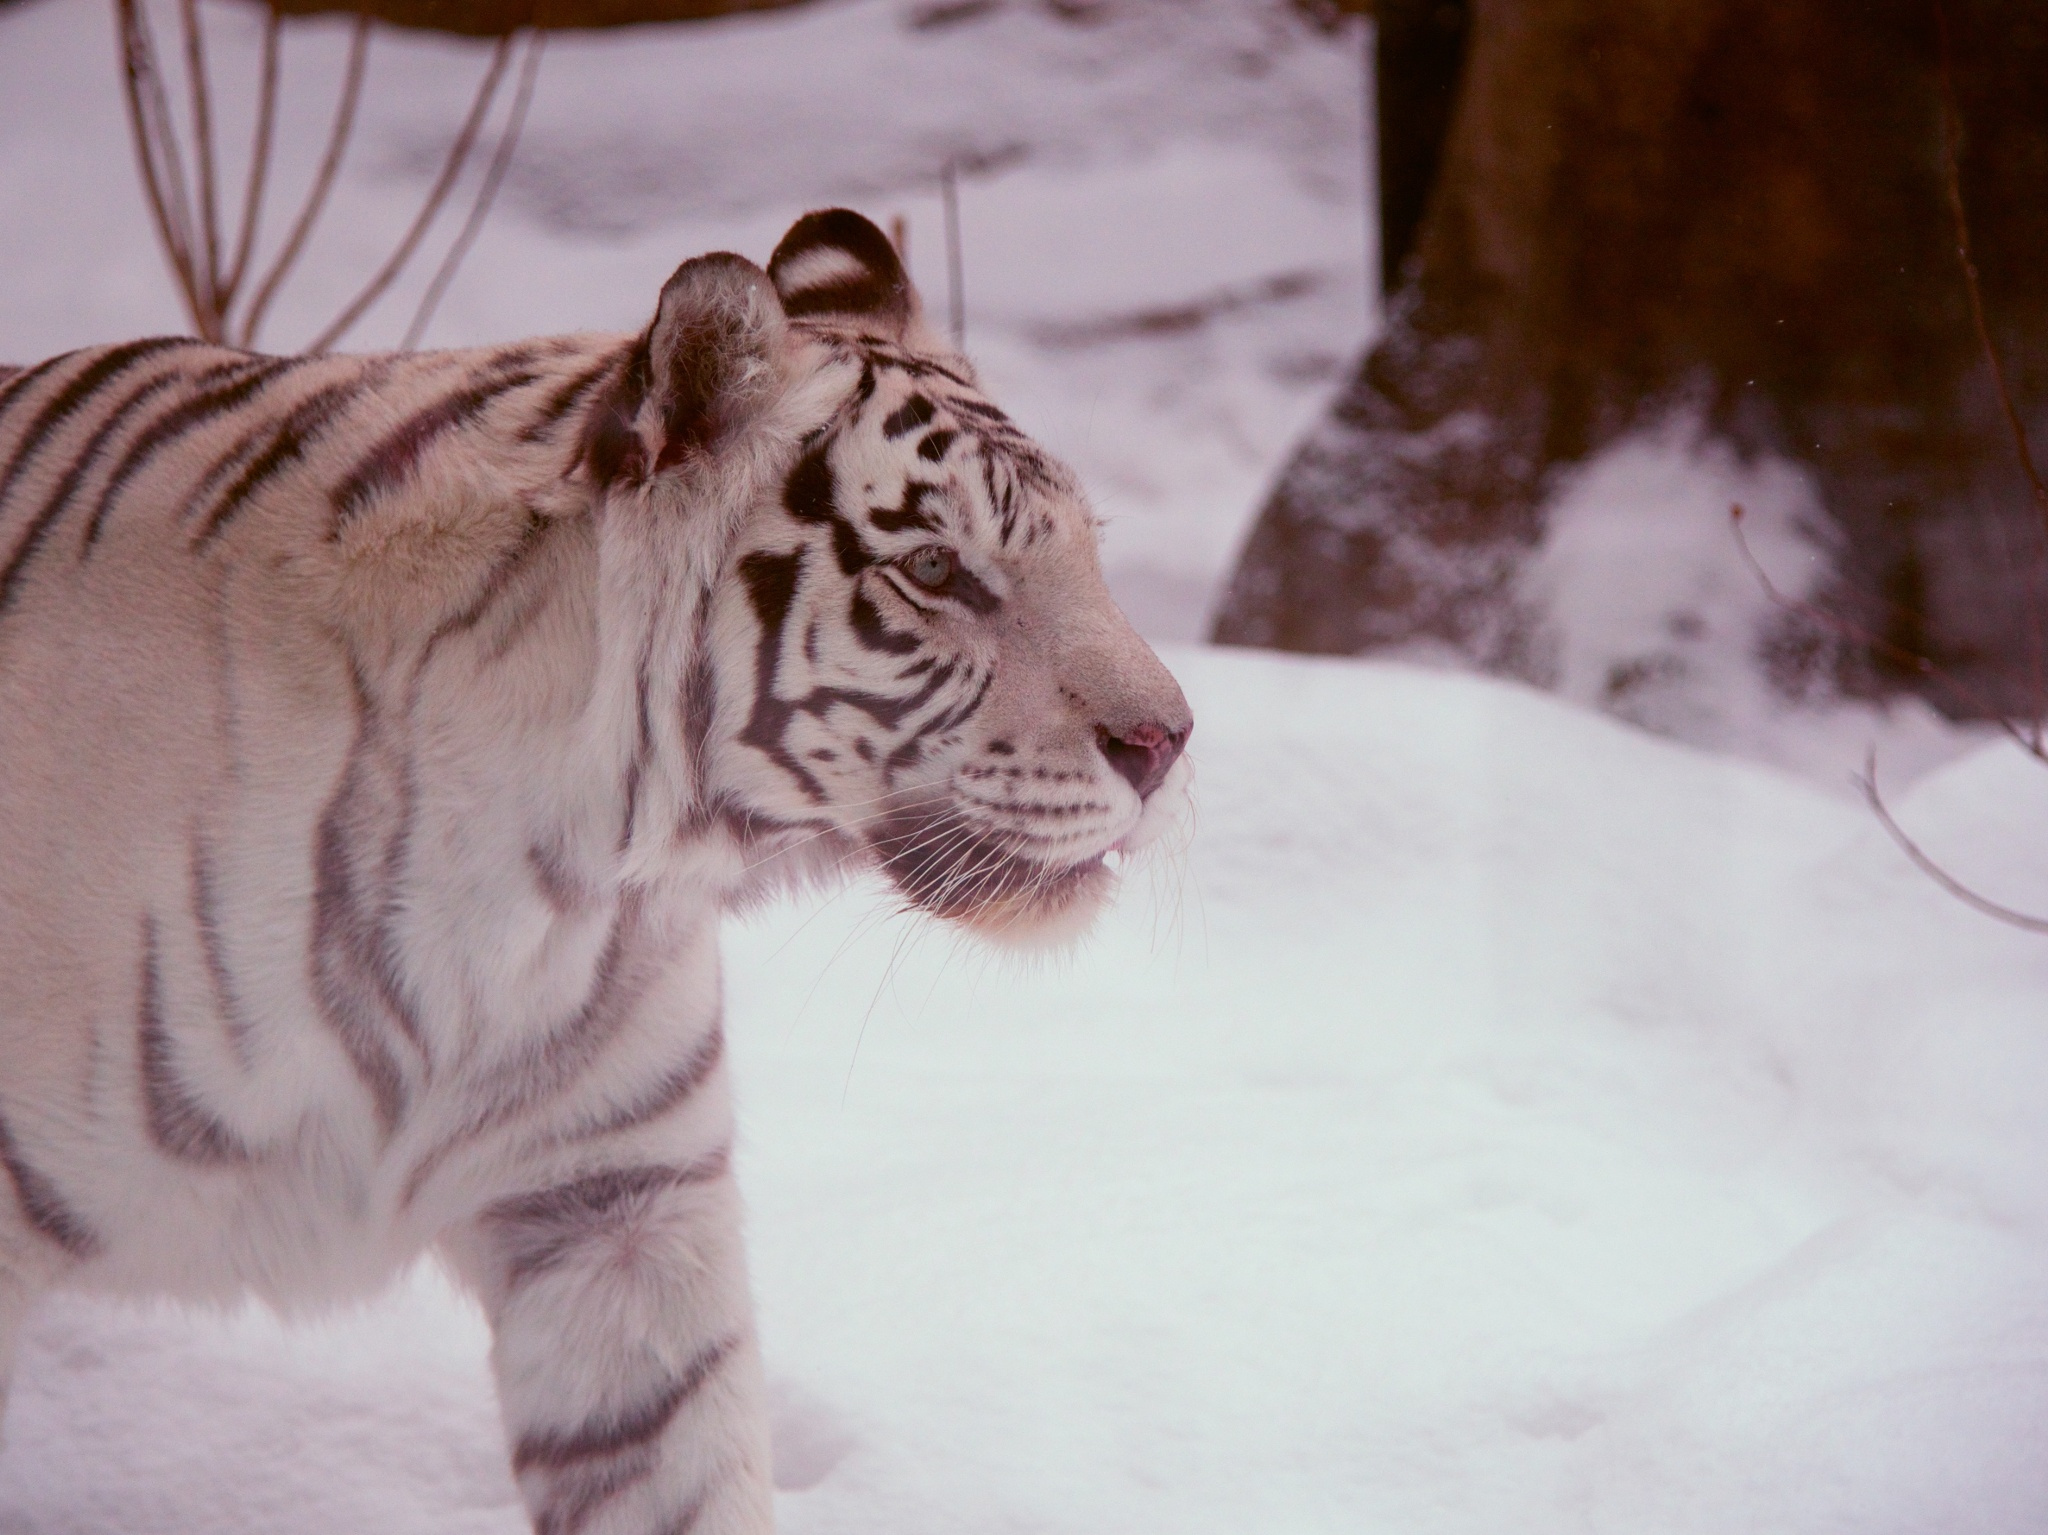tiger: (63, 239, 1200, 1509)
